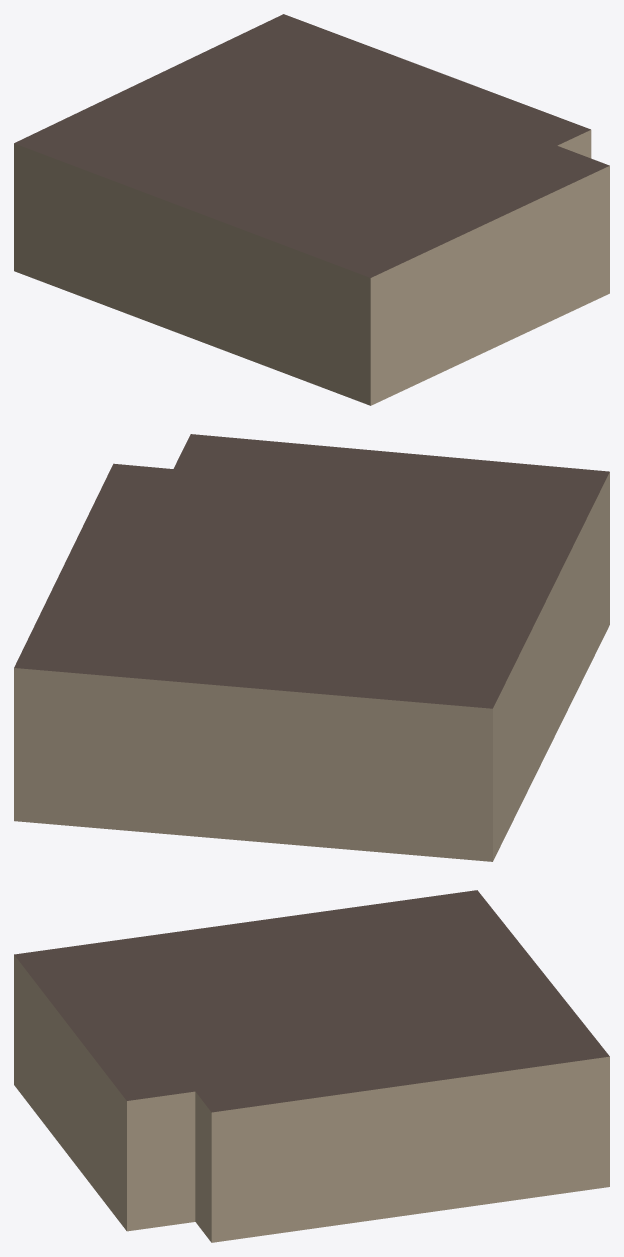
The picture shows the model from 3 angles, top to bottom: view 1: azimuth 30°, elevation 25°; view 2: azimuth 150°, elevation 25°; view 3: azimuth 270°, elevation 25°; orthographic projection. The views are drawn at different scales.
Parts seen in each view (by area): view 1: HP-w1197565393; view 2: HP-w1197565393; view 3: HP-w1197565393.
Boxes of the visible parts, box(x1,y1,x2,y2) form: HP-w1197565393: box(14, 14, 609, 405); HP-w1197565393: box(14, 434, 609, 861); HP-w1197565393: box(14, 890, 609, 1242).
Size of the model in its own units: 32.93 by 9 by 37.29.
